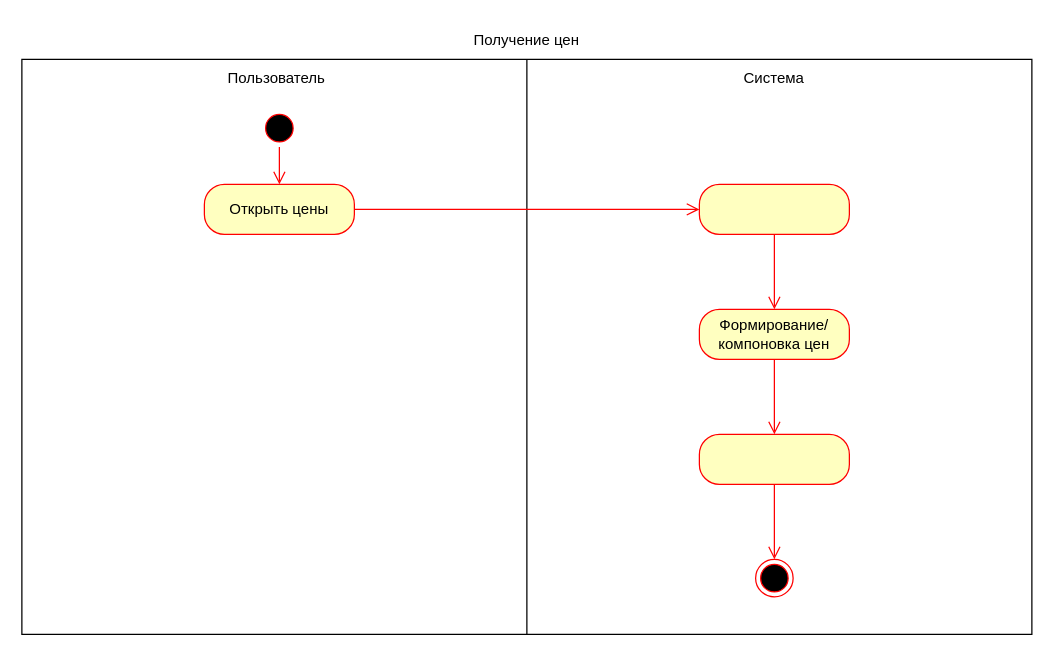
Image size: 1054x658. Some labels were removed from this diagram. The centre of each missing label's shape, as x and y in pixels:
Запрос к сервису: point 773,208
Отображение цен: point 773,458
